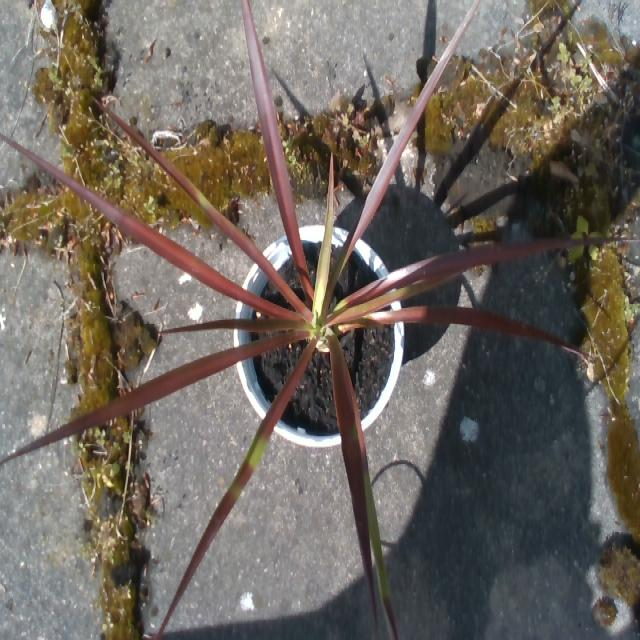Yucca-aloifolia: (3, 139, 293, 317), (0, 337, 288, 465), (344, 0, 481, 259), (99, 107, 283, 283), (196, 340, 315, 560), (240, 0, 311, 300), (345, 240, 577, 303), (328, 335, 376, 627), (342, 307, 579, 352), (360, 428, 397, 639), (328, 273, 458, 325), (313, 156, 332, 323), (165, 319, 305, 333)
